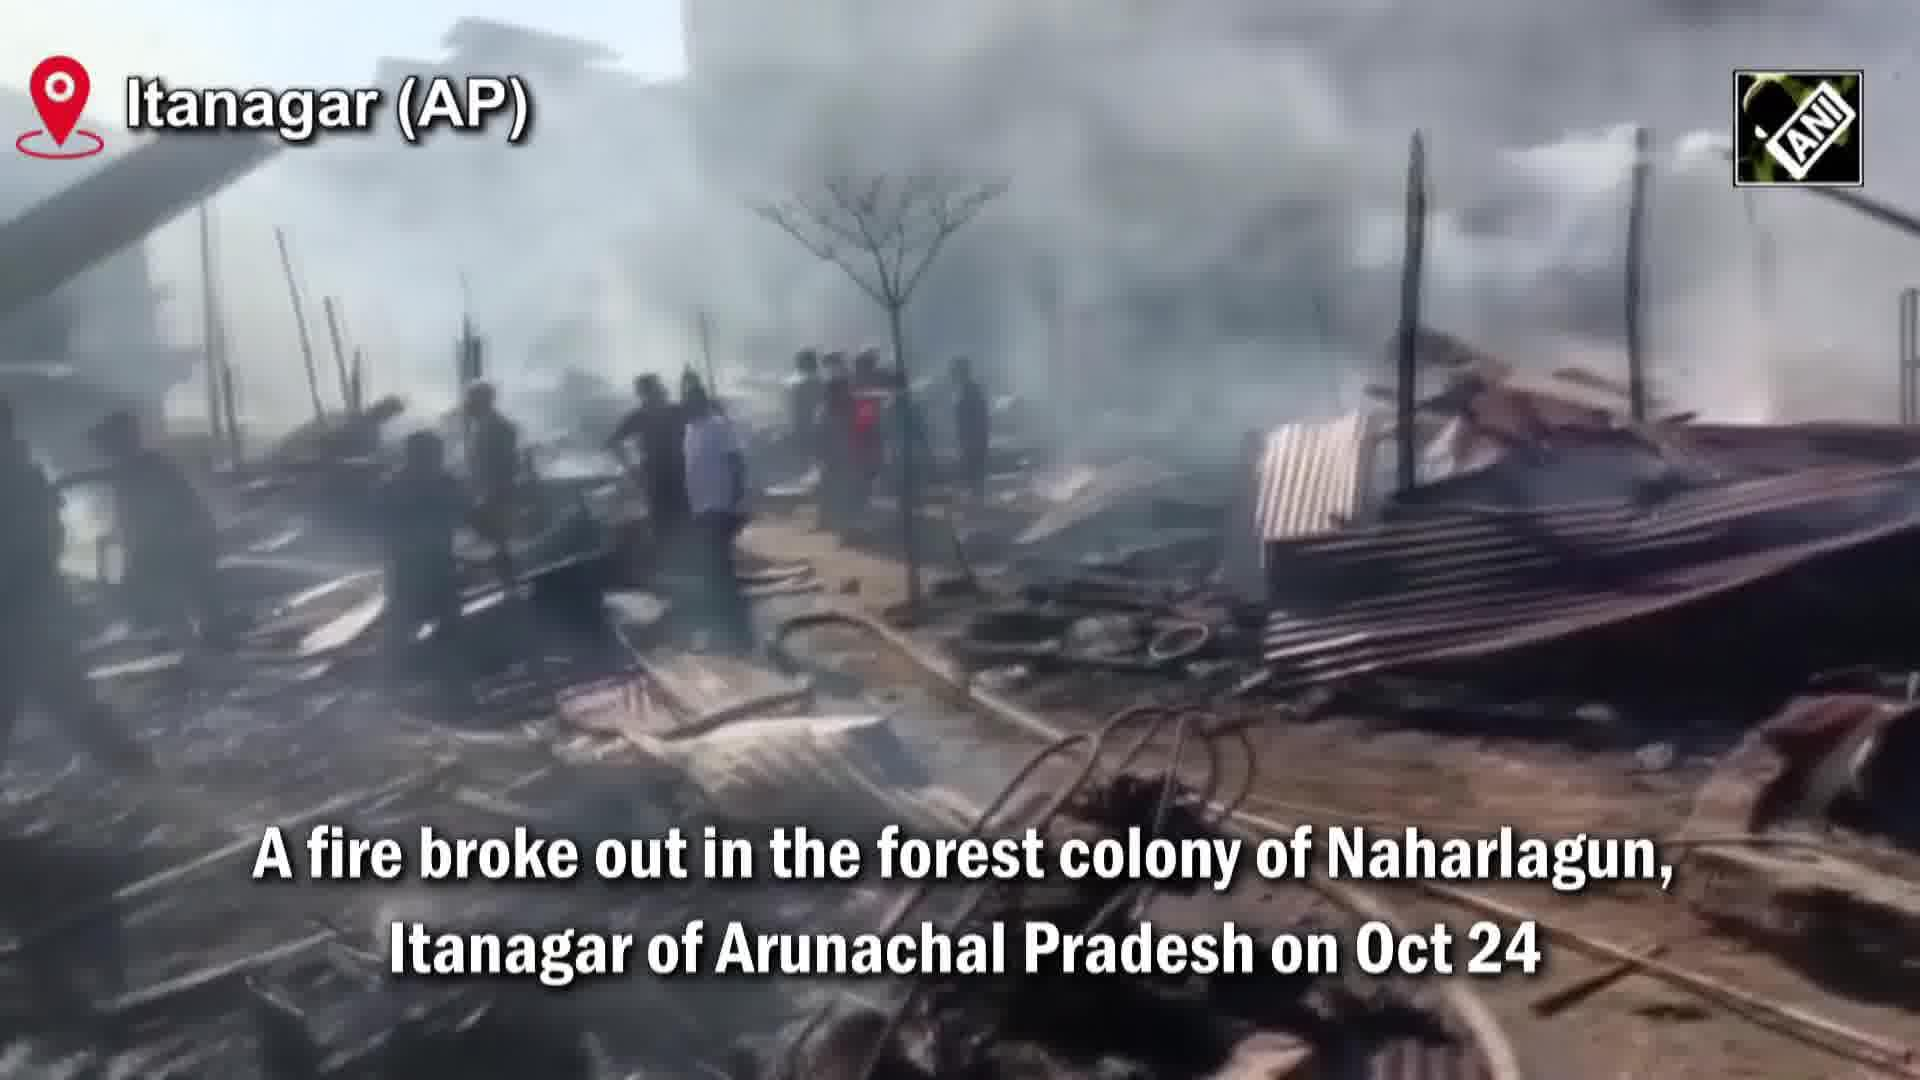smoke: (791, 8, 1383, 418), (1435, 28, 1730, 386), (1739, 204, 1887, 413)
